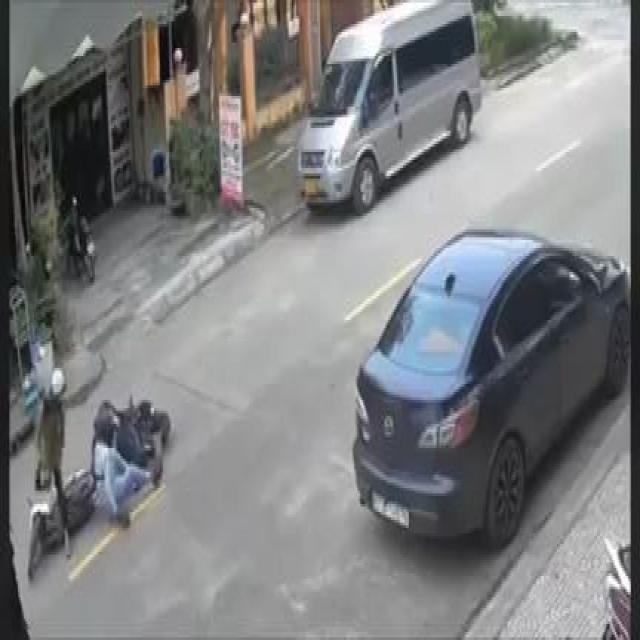accident: (22, 364, 175, 588)
